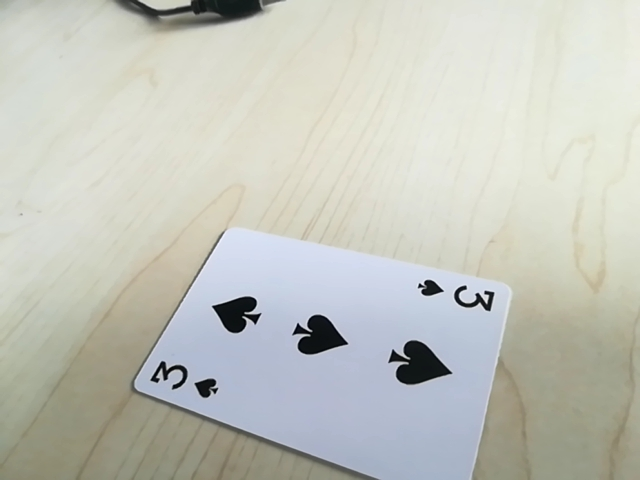ht 3: (415, 275, 502, 317), (143, 357, 227, 400)
